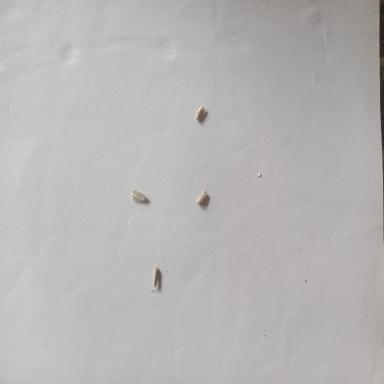pbw: (132, 188, 147, 204), (152, 266, 160, 288), (196, 190, 208, 204), (195, 104, 205, 120)
